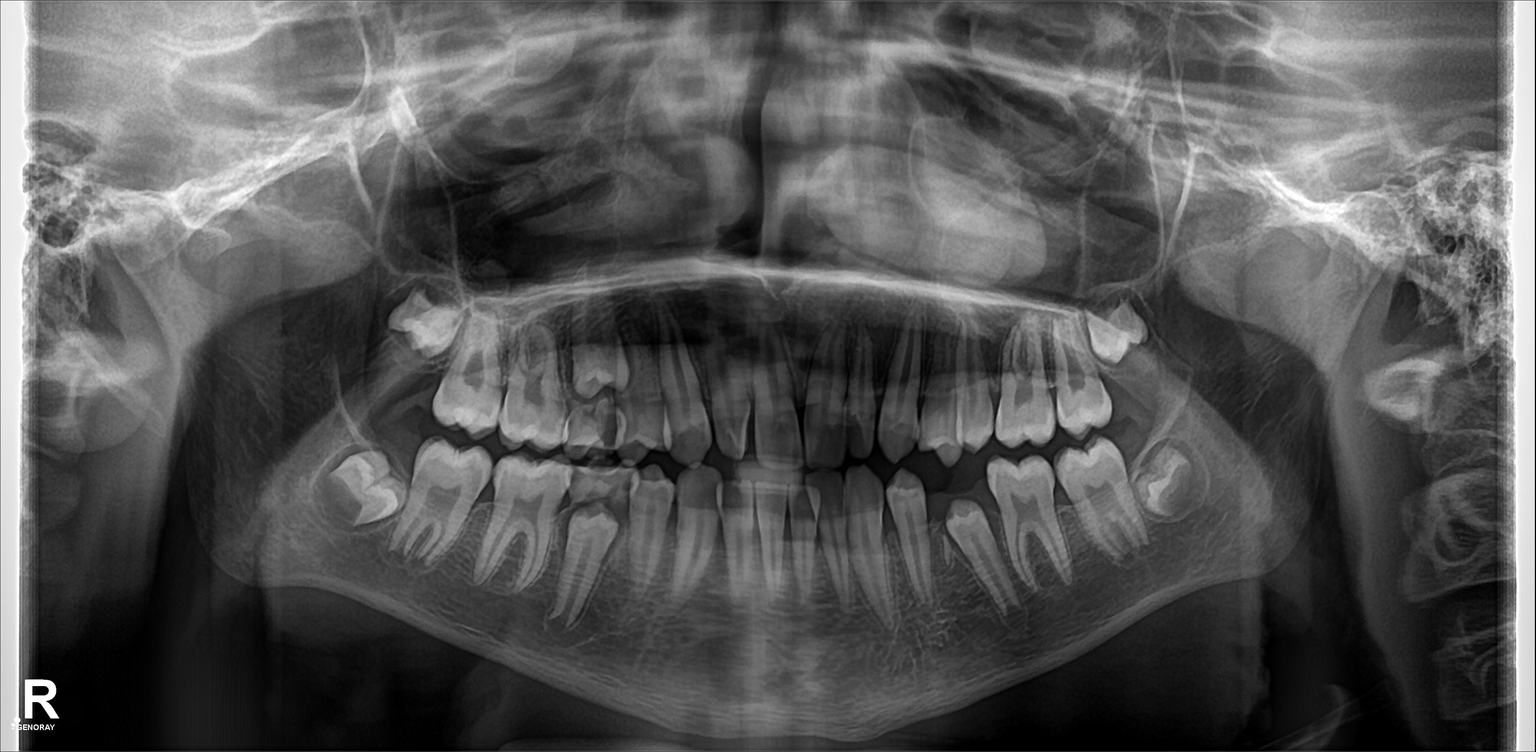Impacted Third Molar: (1136, 439, 1217, 529), (330, 449, 402, 526), (395, 290, 457, 356), (1091, 298, 1149, 359)
